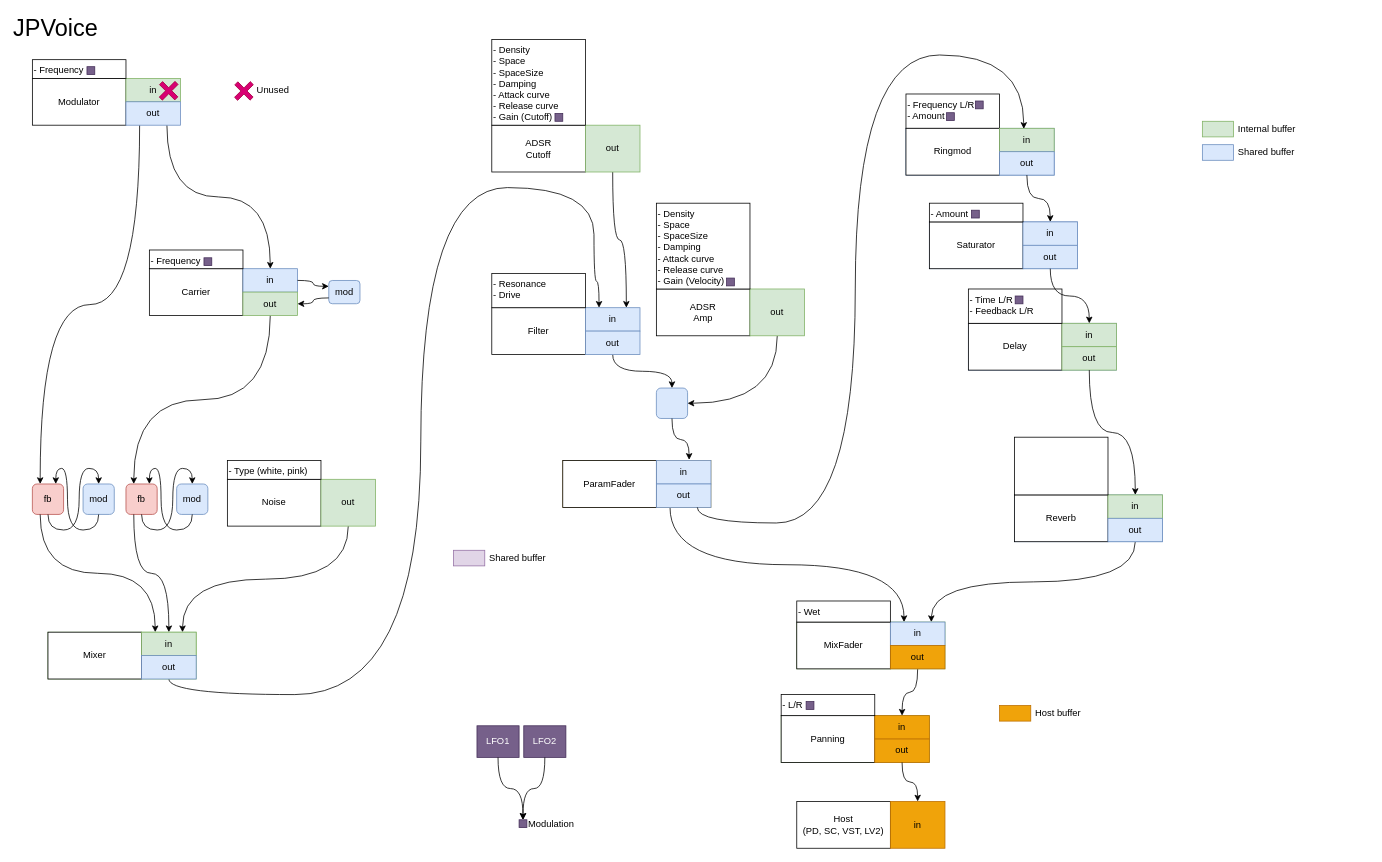
Image size: 1382x862. Some labels were removed from this diagram. The centre of each missing label's shape, as x and y in pixels:
- Density - Space - SpaceSize - Damping: the point at 1061,465
amp: the point at 672,402
